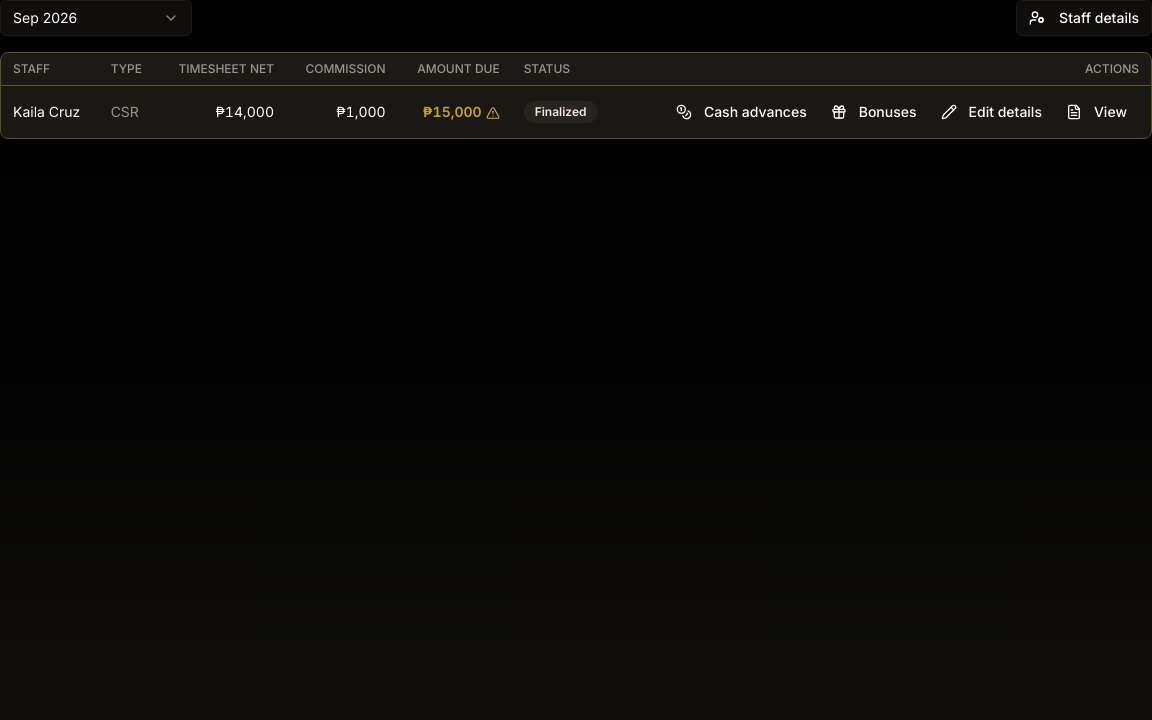
Test: Payslips tab — Edit figures › shows a server refusal in plain English
Later steps or results of the test are not shown.
Click the button "View".
click(1096, 112)  # box [1054, 94, 1139, 130]
(page scrolled)
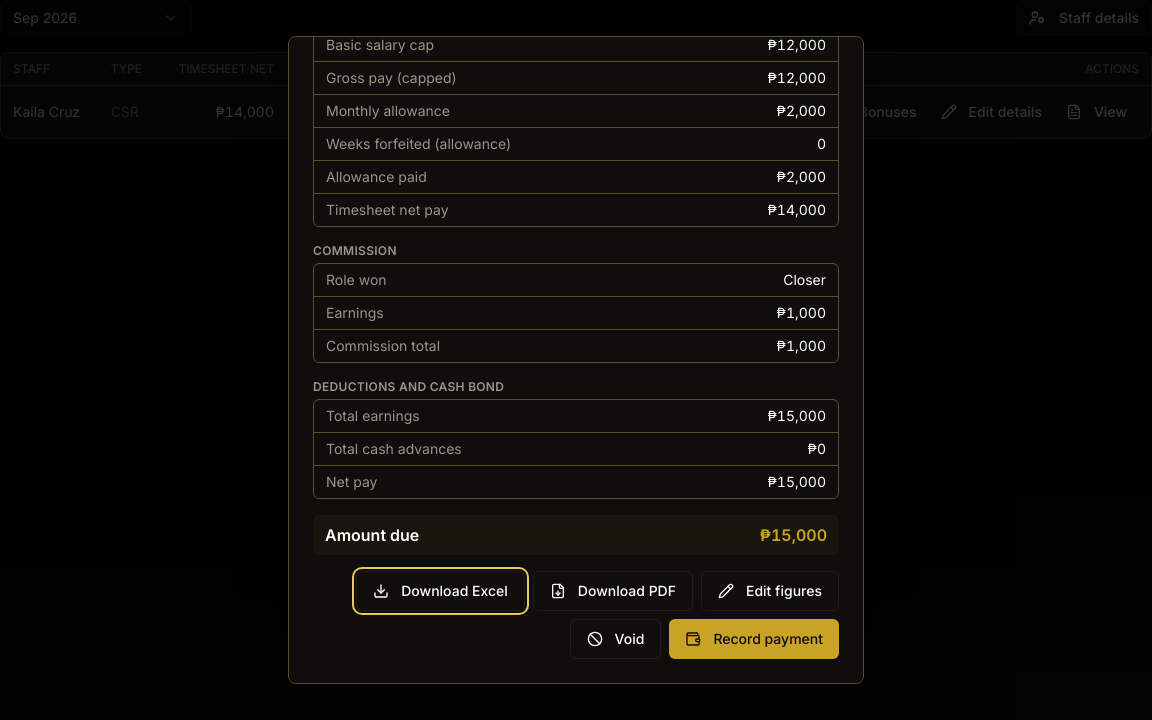
Click the button with test id "payslip-edit-figures".
click(770, 591)  # box [701, 571, 839, 611]
(page scrolled)
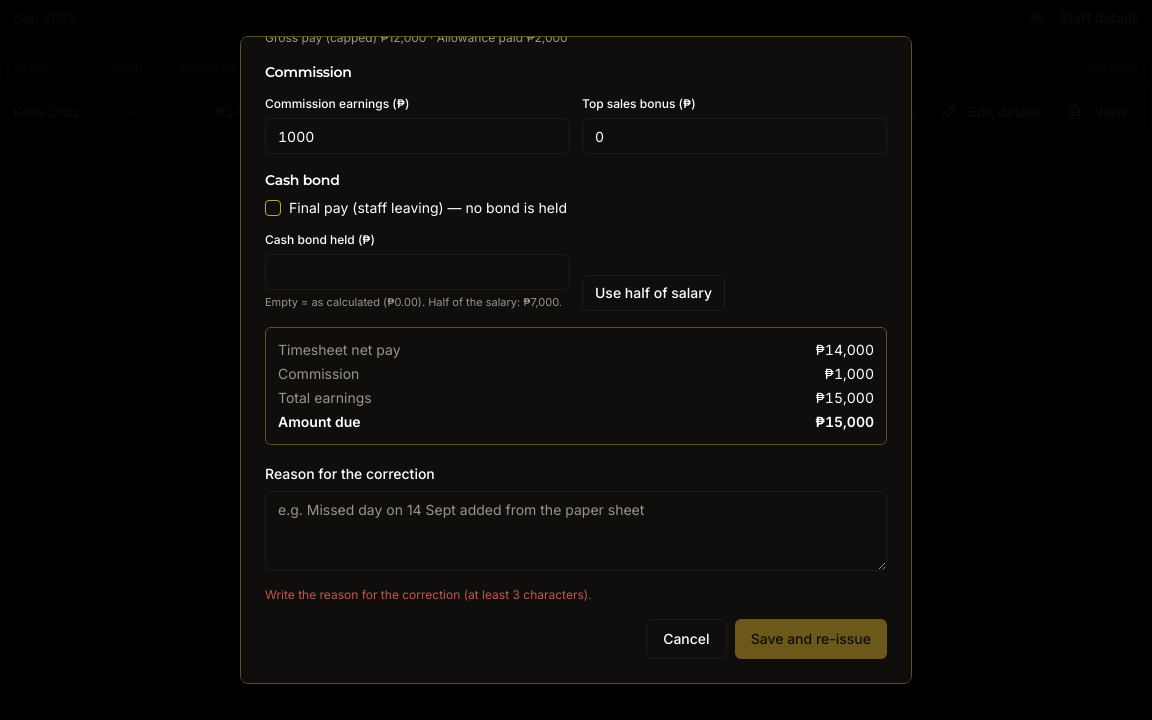
Expected: the dialog with test id "edit-figures-dialog" is shown, [240, 36, 912, 684]
